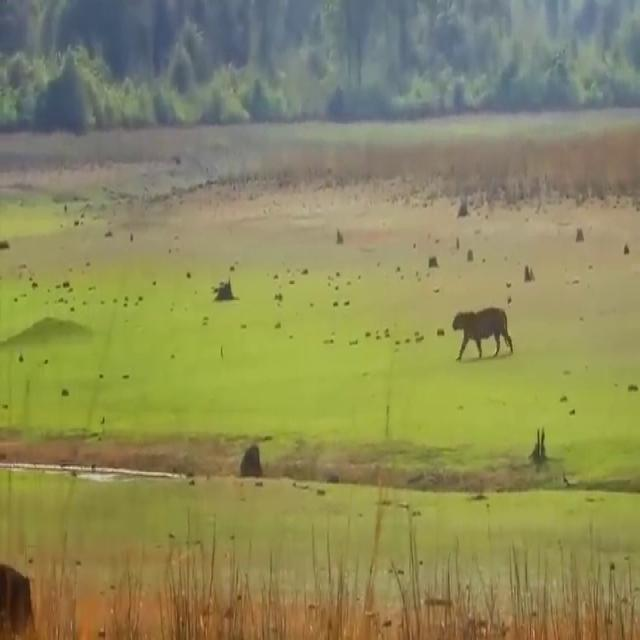tiger: (452, 307, 514, 361)
